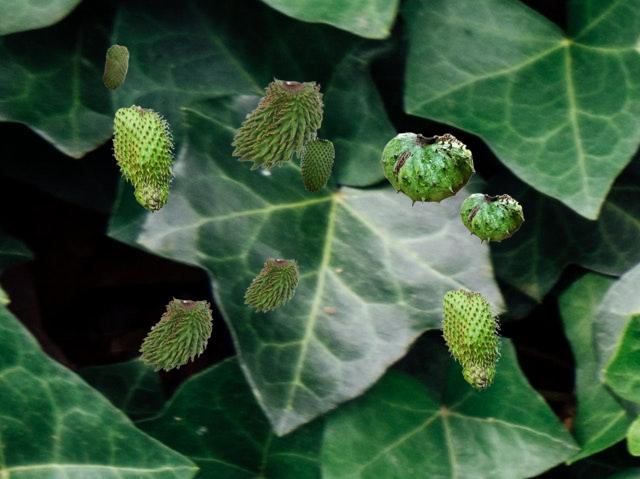guyabano: (230, 76, 323, 169), (380, 132, 474, 206), (111, 104, 175, 212), (440, 287, 501, 390), (138, 296, 212, 370), (459, 193, 523, 243), (243, 256, 298, 311), (300, 137, 333, 192), (102, 44, 128, 89)
